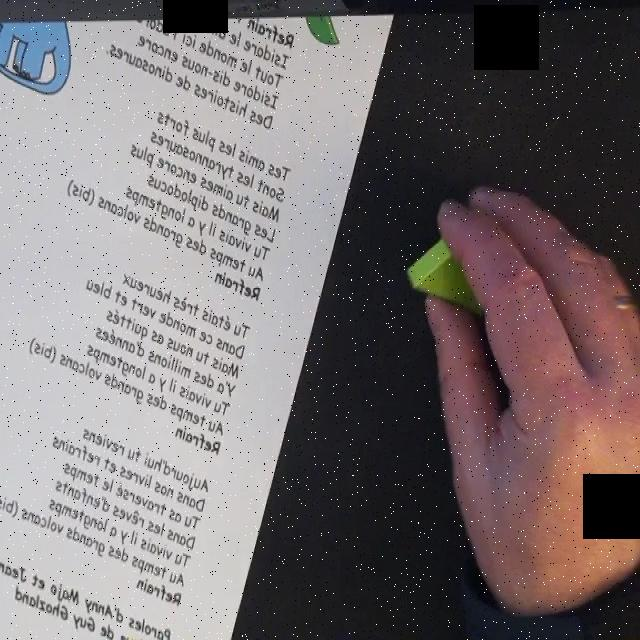triangle: (407, 218, 502, 315)
